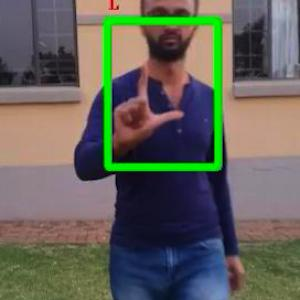land_hand: (106, 52, 192, 154)
